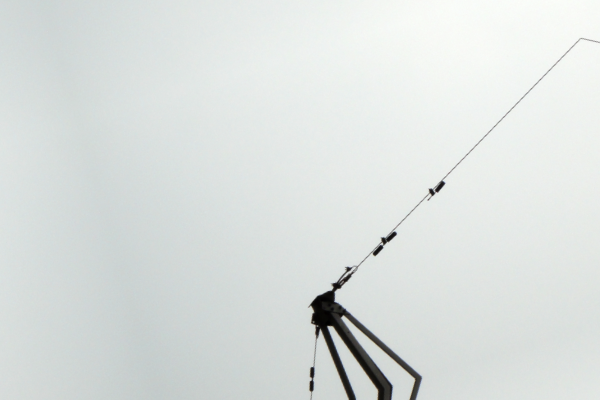damper: (371, 230, 397, 258)
damper_defect: (425, 179, 446, 203)
